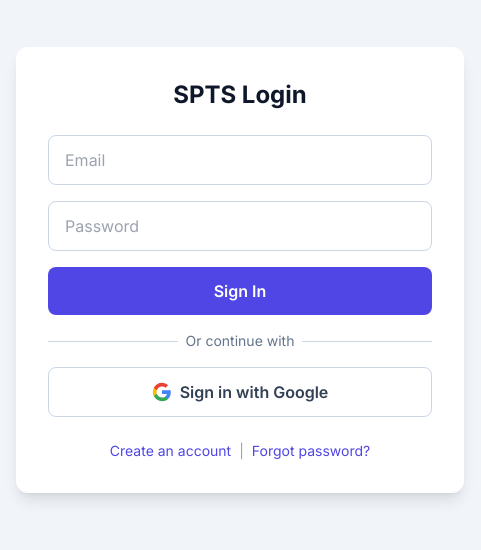
Test: Login › Google Login › should display error on Google login failure
Click the button "Sign in with Google" at (240,392), box [48, 367, 432, 417]
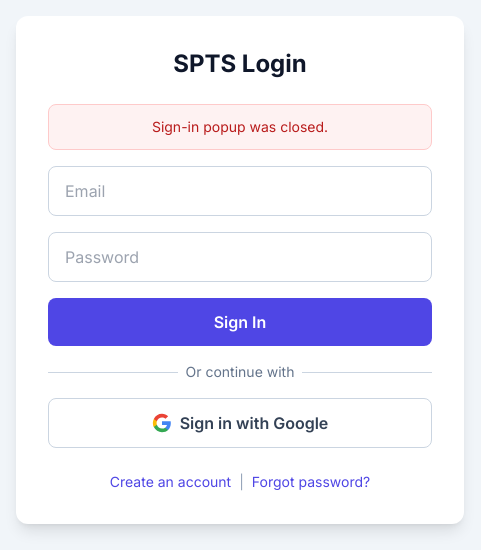
Check: the text "Sign-in popup was closed." is shown, box [48, 104, 432, 150]
